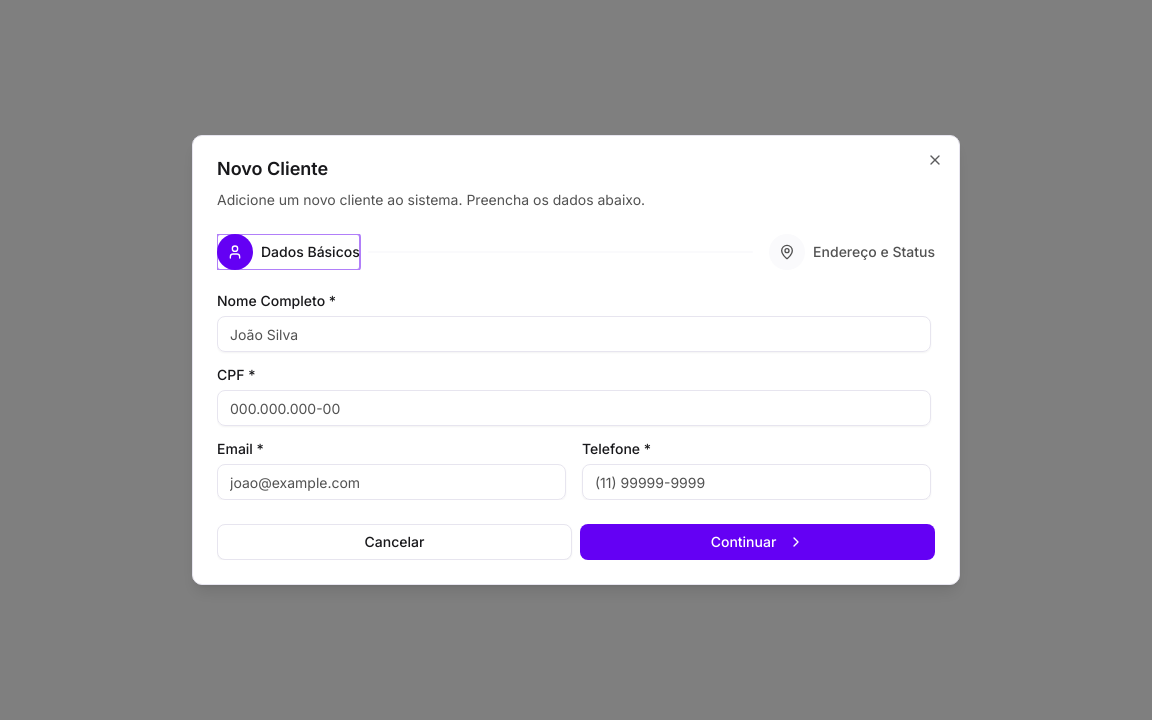
ClientFormDialog - wizard de passos › goes back to step 1 preserving data
In the field labelled "Nome Completo *": (574,334) [217, 316, 931, 352], type "Carlos Lima"
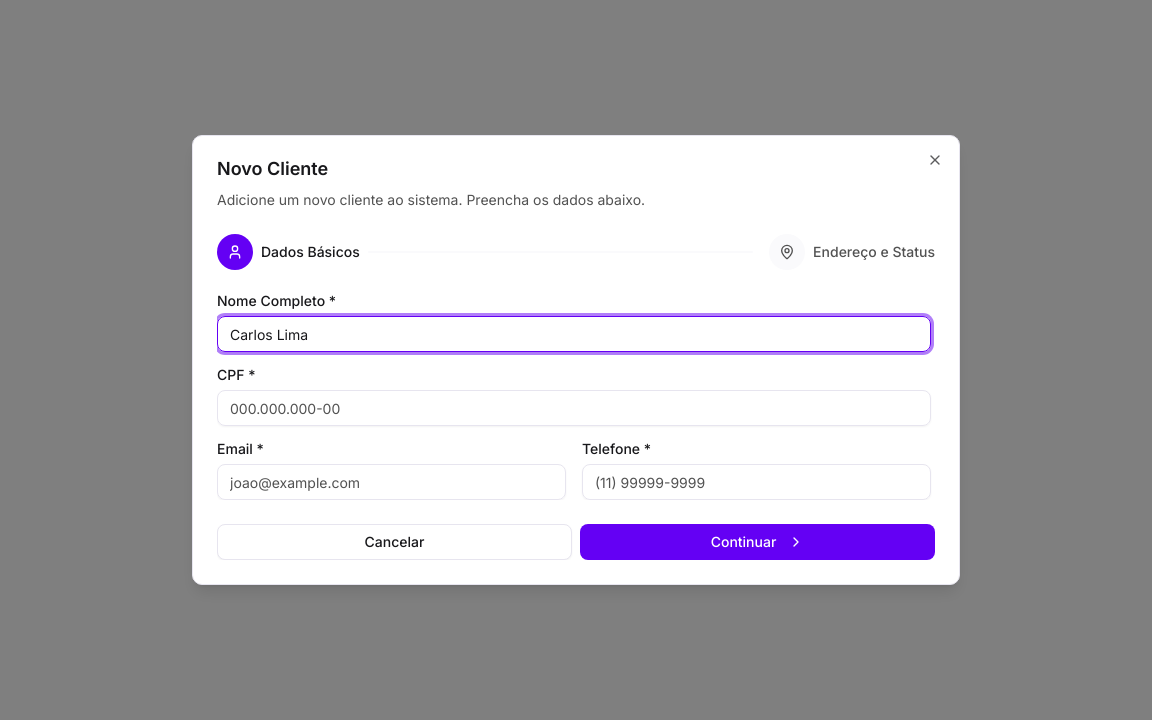
In the field labelled "CPF *": (574,408) [217, 390, 931, 426], type "52998224725"
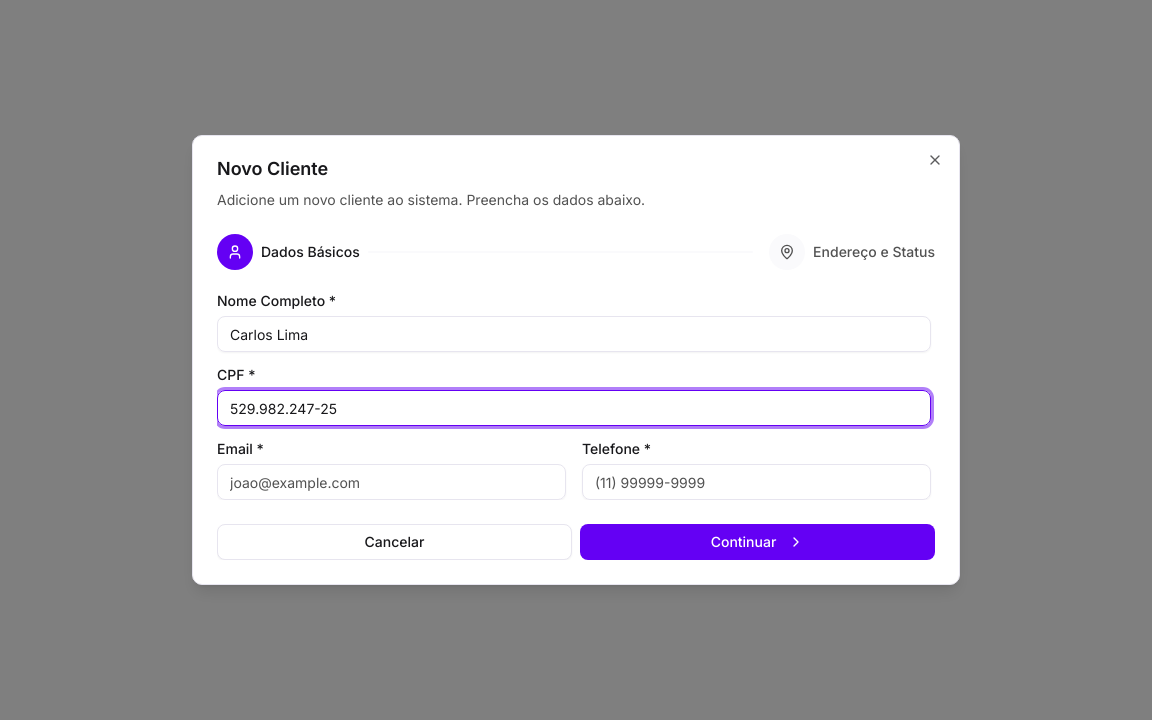
In the field labelled "Email *": (392,482) [217, 464, 566, 500], type "carlos@example.com"
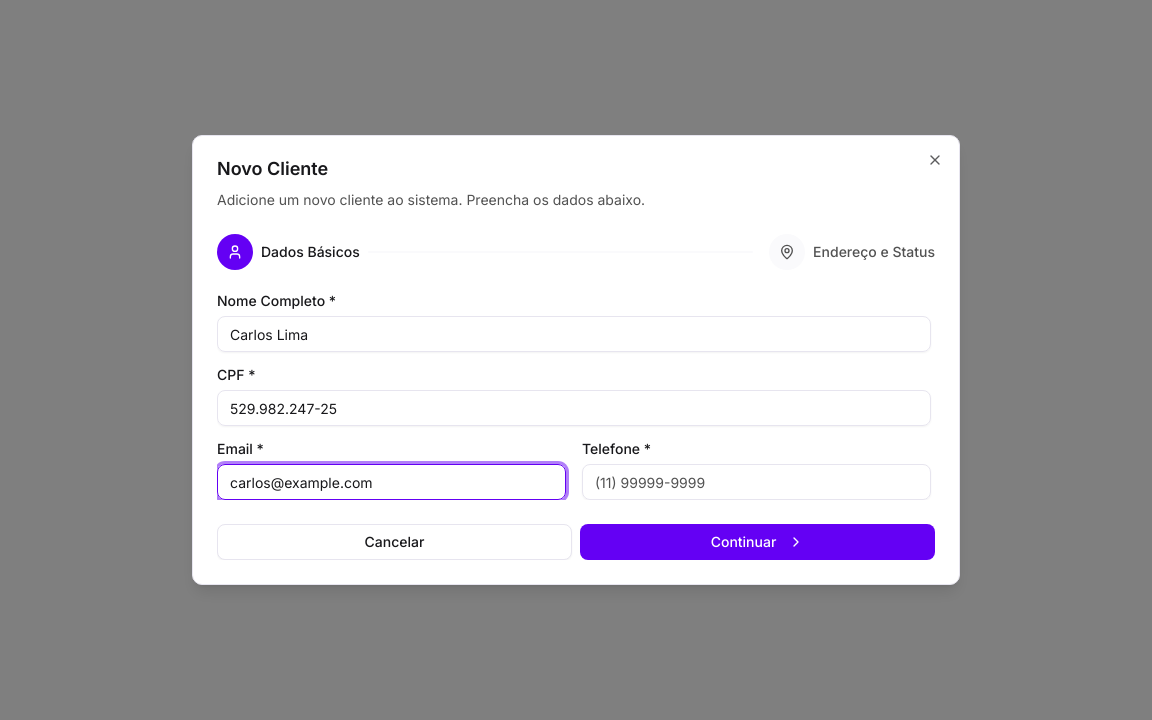
In the field labelled "Telefone *": (756,482) [582, 464, 931, 500], type "11987654321"
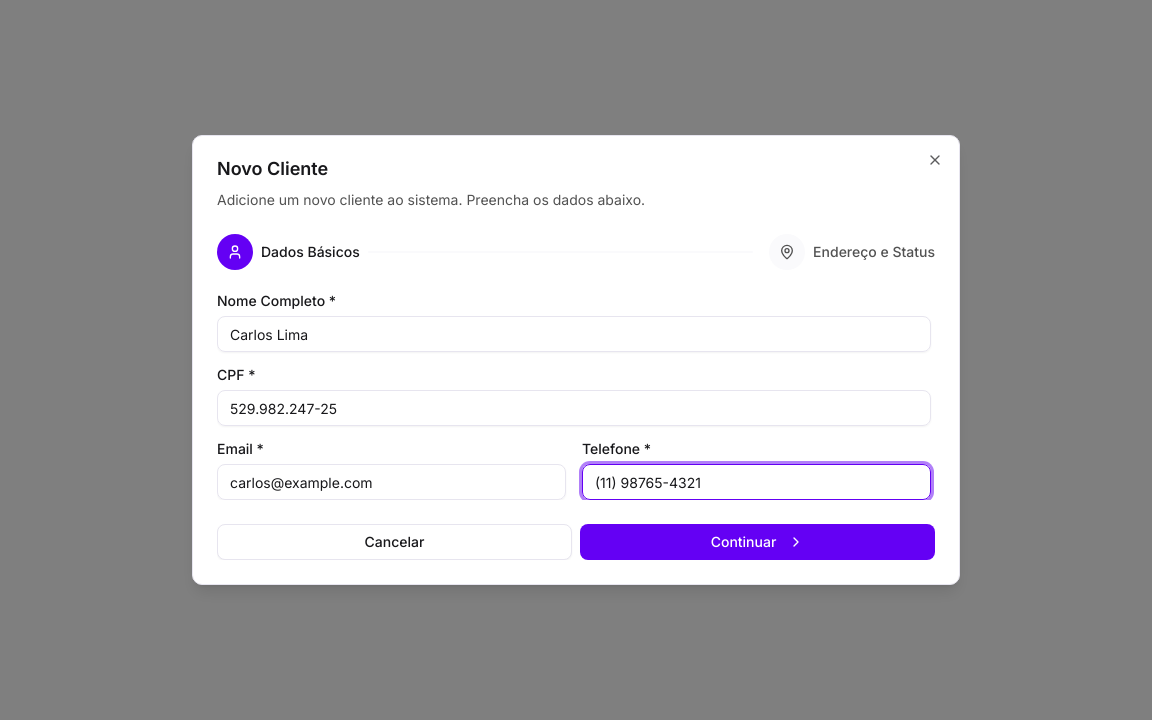
Click the button "Continuar": (758,542) [580, 524, 935, 560]
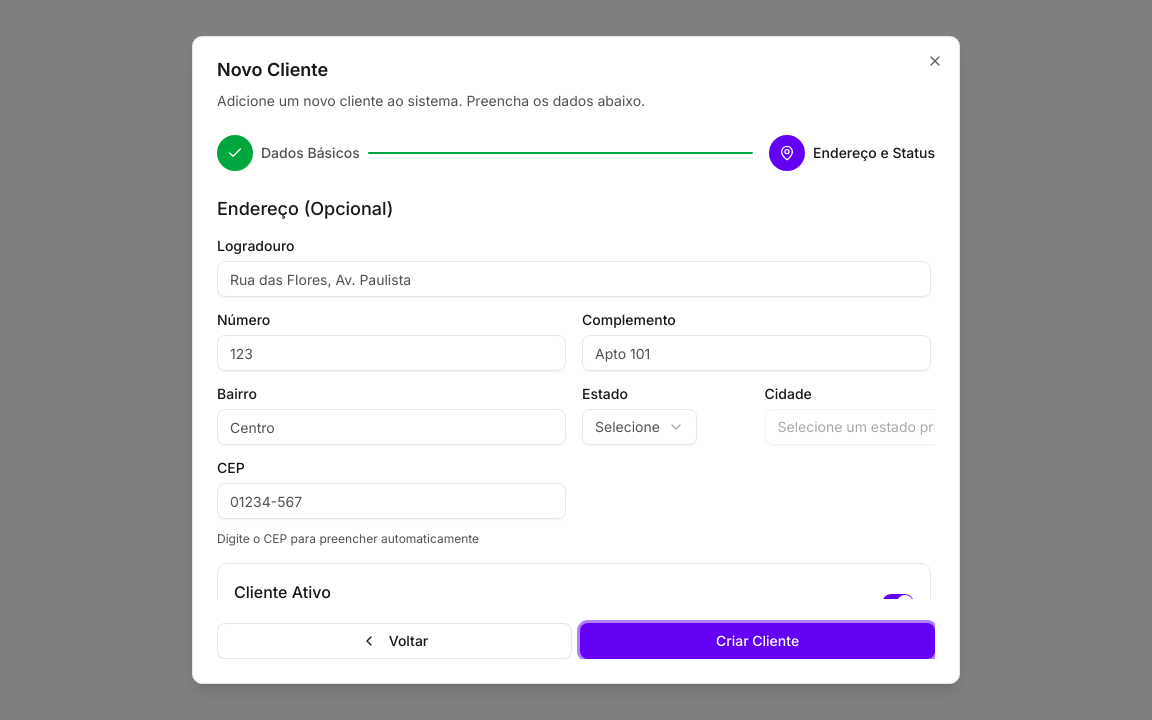
Check: the text "Cliente Ativo" is shown, box [234, 582, 331, 599]
Click the button "Voltar": (394,641) [217, 623, 572, 659]
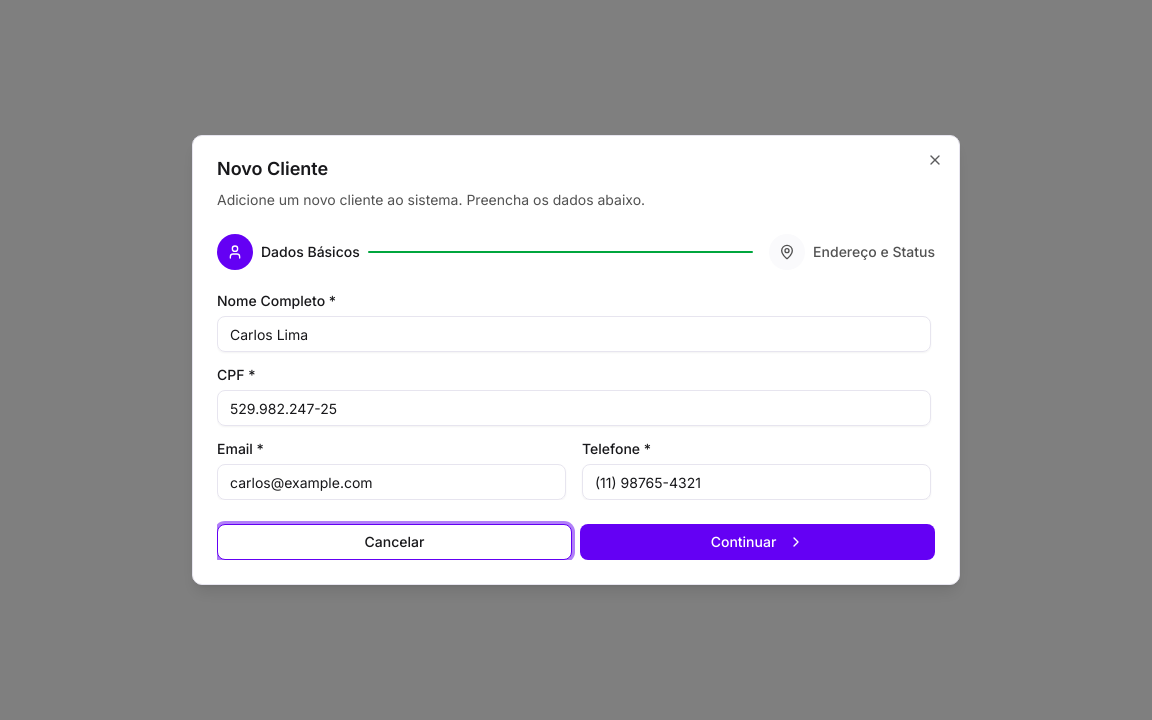
Check: the field labelled "Nome Completo *" holds "Carlos Lima", box [217, 316, 931, 352]
